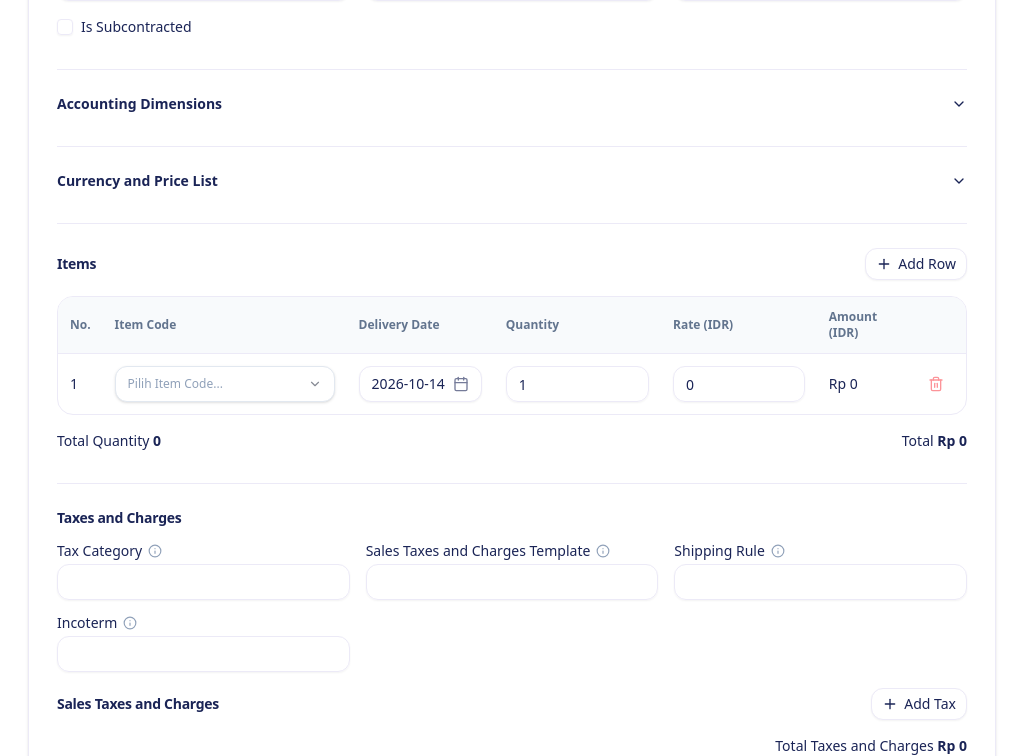
Test case: Sales Order Form & UI Tests › automatically adjusts rate and amount when selecting an item code in new Sales Order
(page scrolled)
Click the button "Pilih Item Code..." at (225, 384), box [115,366,335,402]
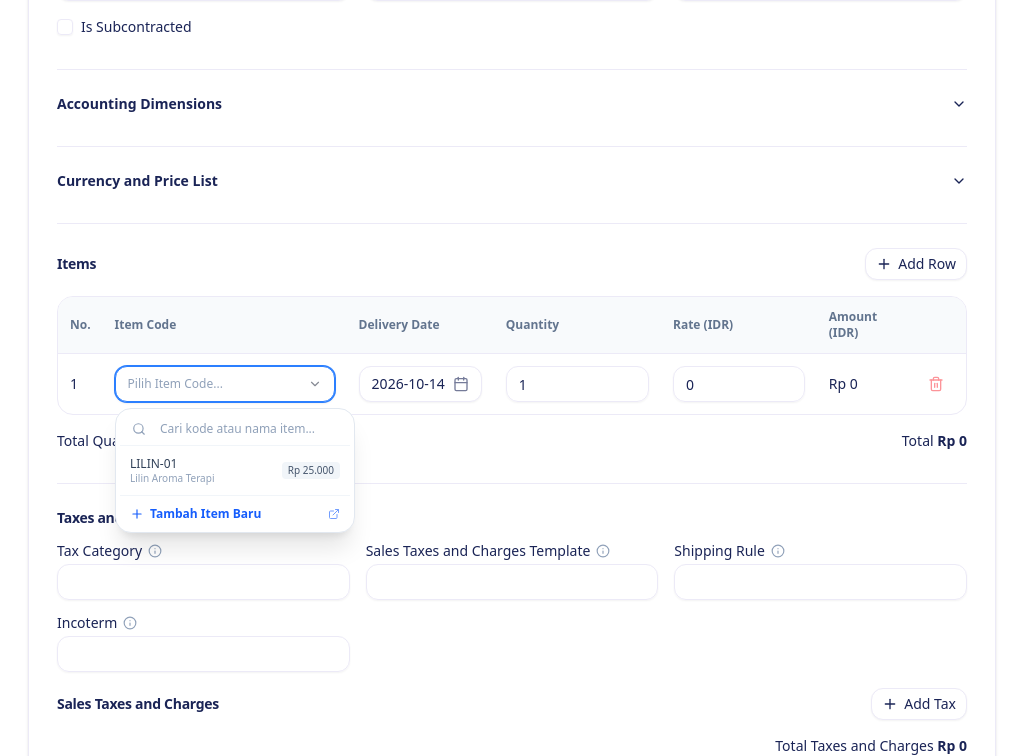
Click the button "LILIN-01 Lilin Aroma Terapi Rp 25.000" at (235, 471), box [120,450,350,491]
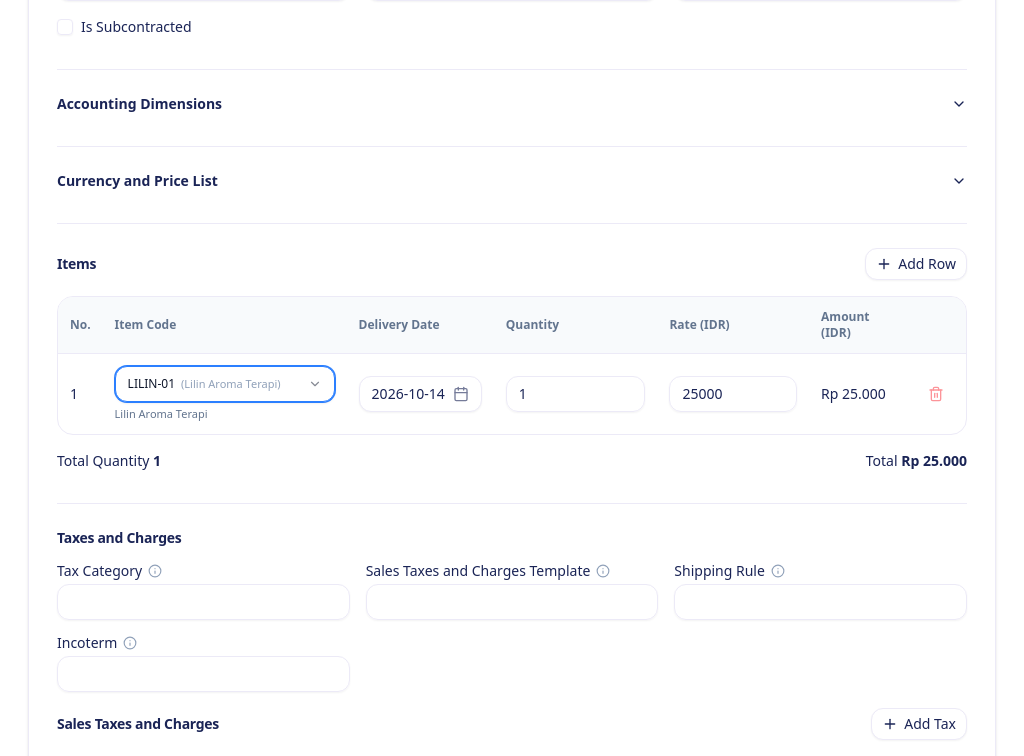
Check: the text "Lilin Aroma Terapi" is shown, box [115,406,208,421]
Check: the 2nd number field showing "25000" is shown, box [669,376,797,412]
